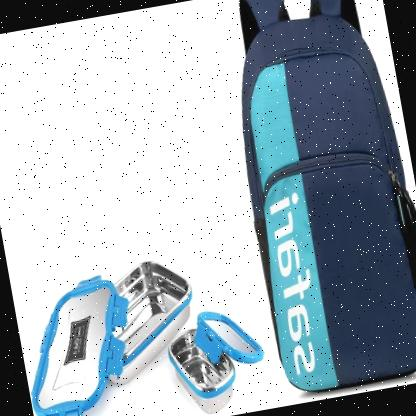bag: (211, 0, 416, 404)
